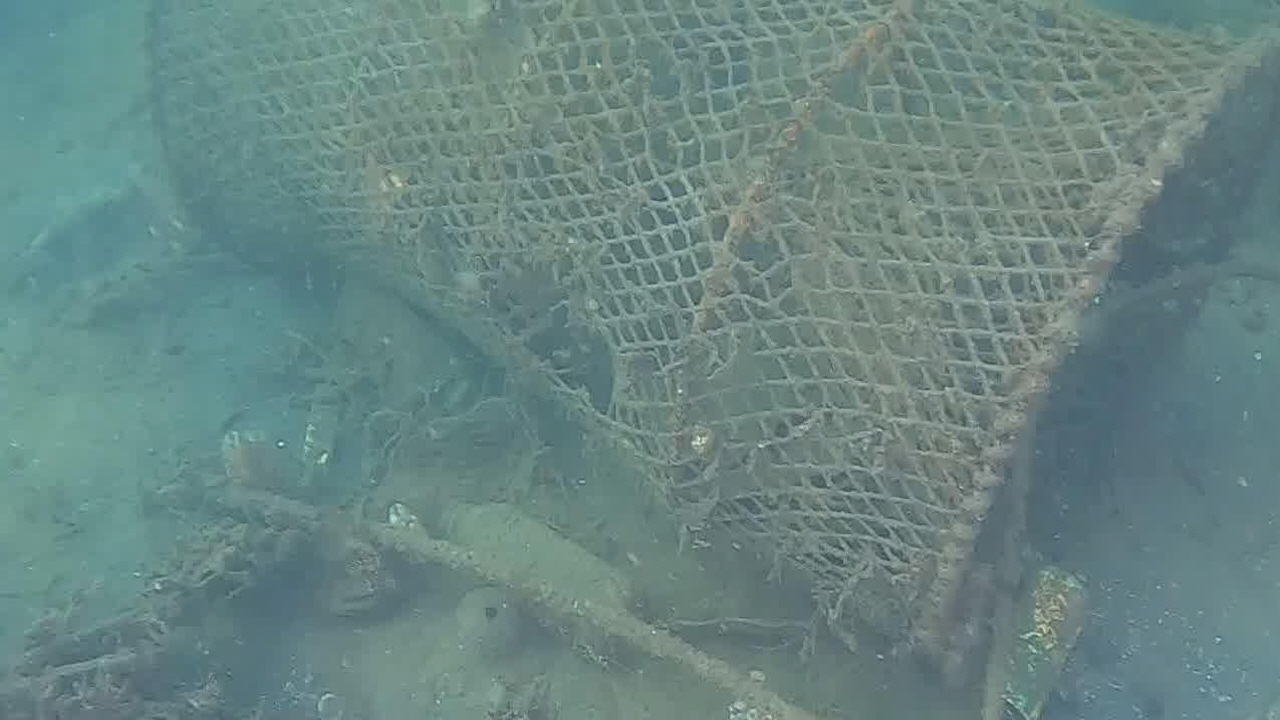spring fish trap: (141, 0, 1280, 671)
